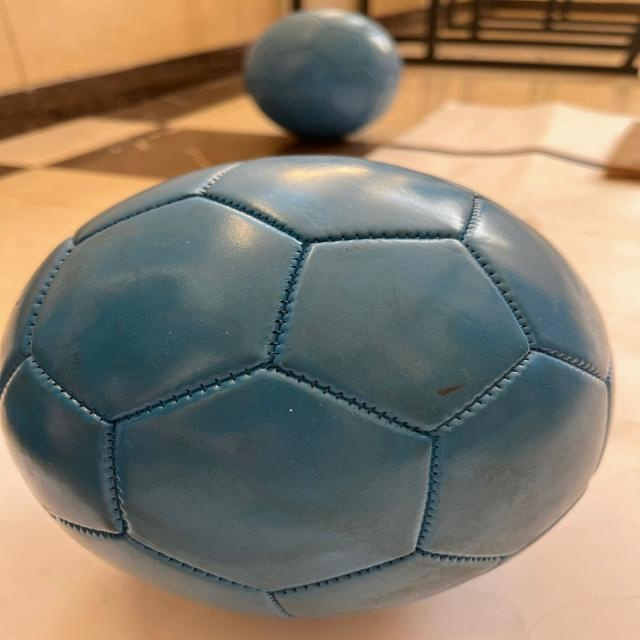blue_ball: (2, 153, 609, 616), (248, 13, 404, 139)
